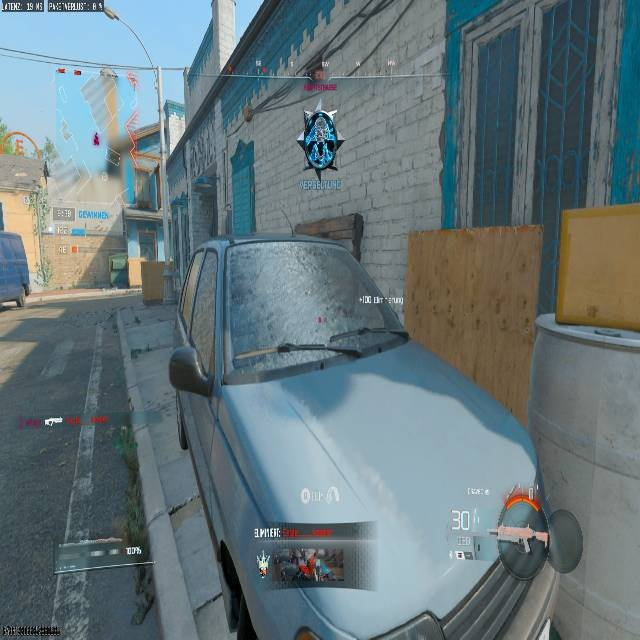head: (495, 497, 548, 575)
player: (300, 107, 340, 181)
